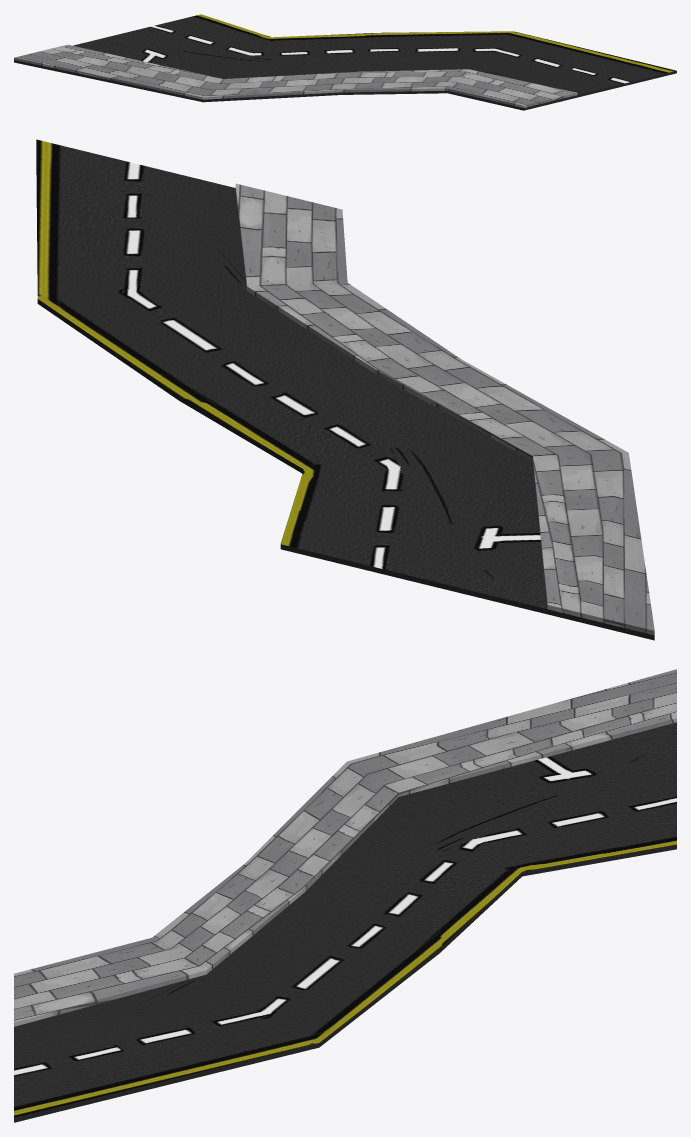
Rendered from curved-road.fbx.
The picture shows the model from 3 angles, top to bottom: view 1: azimuth 30°, elevation 25°; view 2: azimuth 150°, elevation 25°; view 3: azimuth 270°, elevation 25°; orthographic projection. The views are drawn at different scales.
Parts seen in each view (by area): view 1: Box017; view 2: Box017; view 3: Box017.
Part boxes in pixels (box(x1,y1,x2,y2)): Box017: box(14, 14, 676, 110); Box017: box(36, 139, 654, 640); Box017: box(14, 669, 676, 1122).
Size of the model in its own units: 3048 by 28.88 by 1920.
